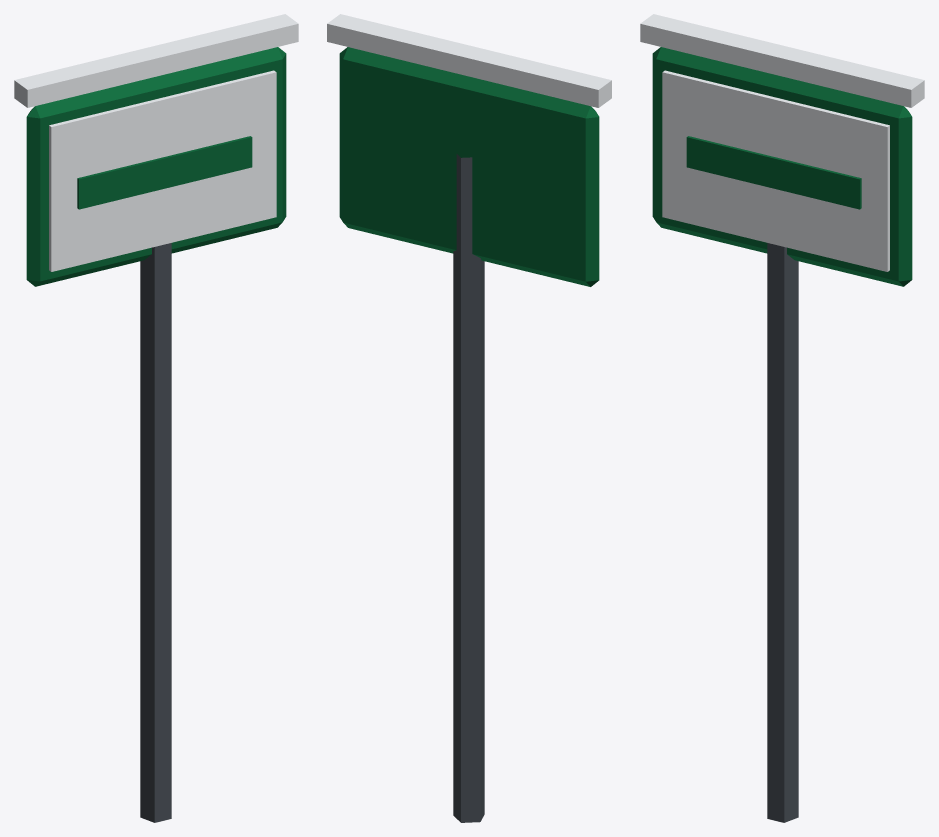
File: sign-post.glb
The picture shows the model from 3 angles, left to right: view 1: azimuth 30°, elevation 25°; view 2: azimuth 150°, elevation 25°; view 3: azimuth 330°, elevation 25°; orthographic projection.
Parts seen in each view (by area): view 1: sign-post; view 2: sign-post; view 3: sign-post.
Part boxes in pixels (x1,y1,x2,y2): sign-post: [14, 14, 298, 822]; sign-post: [327, 14, 611, 822]; sign-post: [640, 14, 924, 822].
Bounding box in the file's own units: 0.94 × 2.53 × 0.105.
